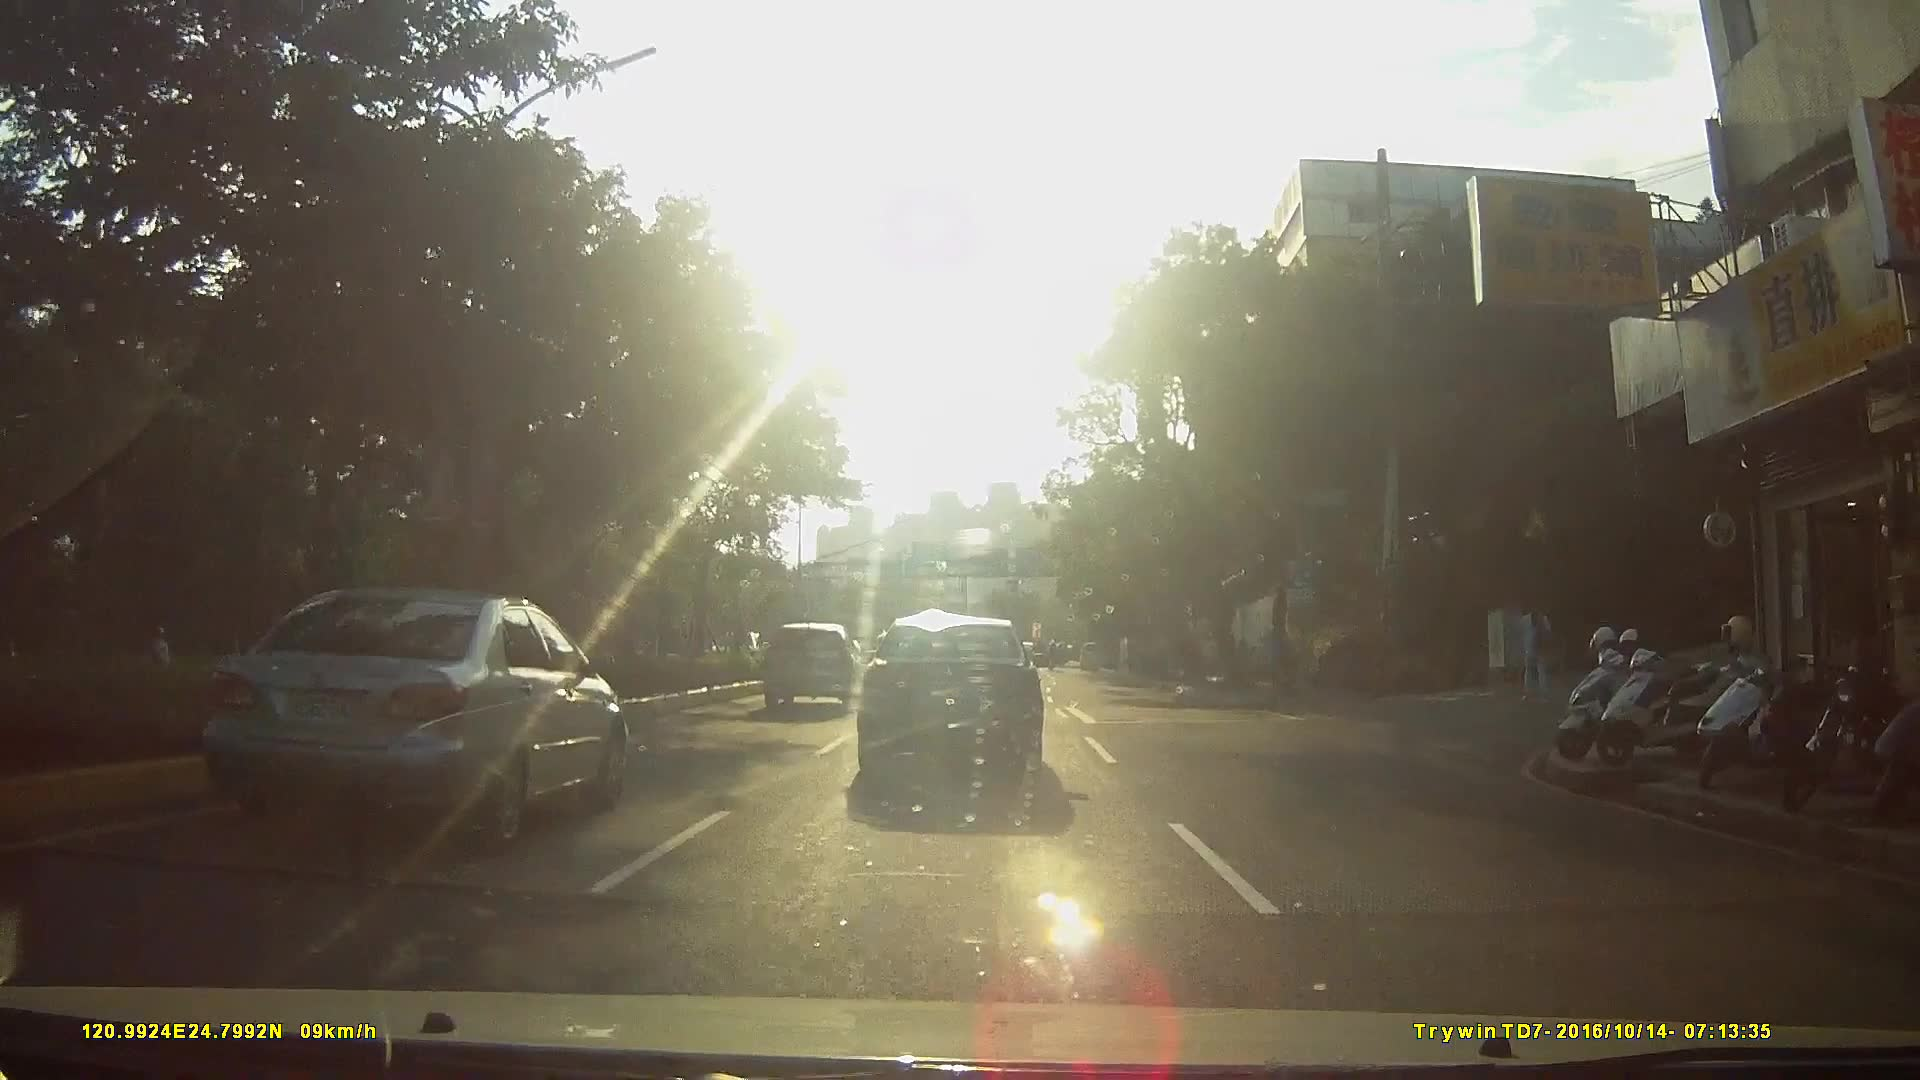pedestrian: (1520, 591, 1569, 701)
vehicle: (195, 585, 639, 851), (860, 613, 1065, 789), (762, 621, 869, 710), (1077, 640, 1109, 672)
